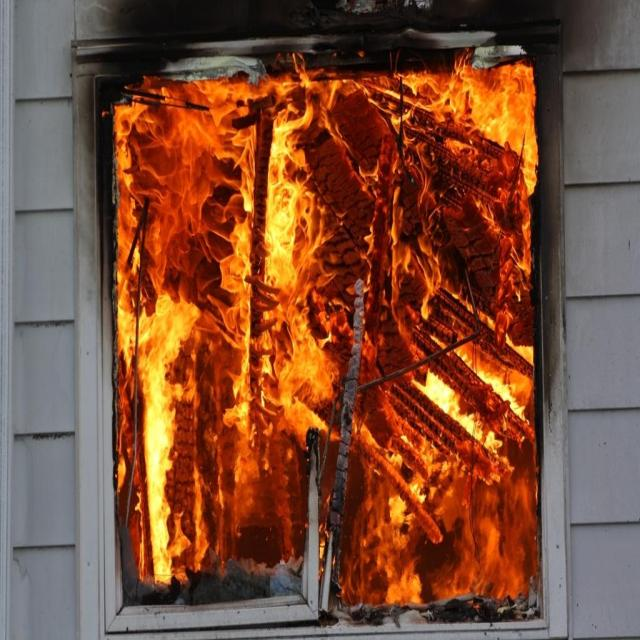Fire: (109, 53, 544, 611)
